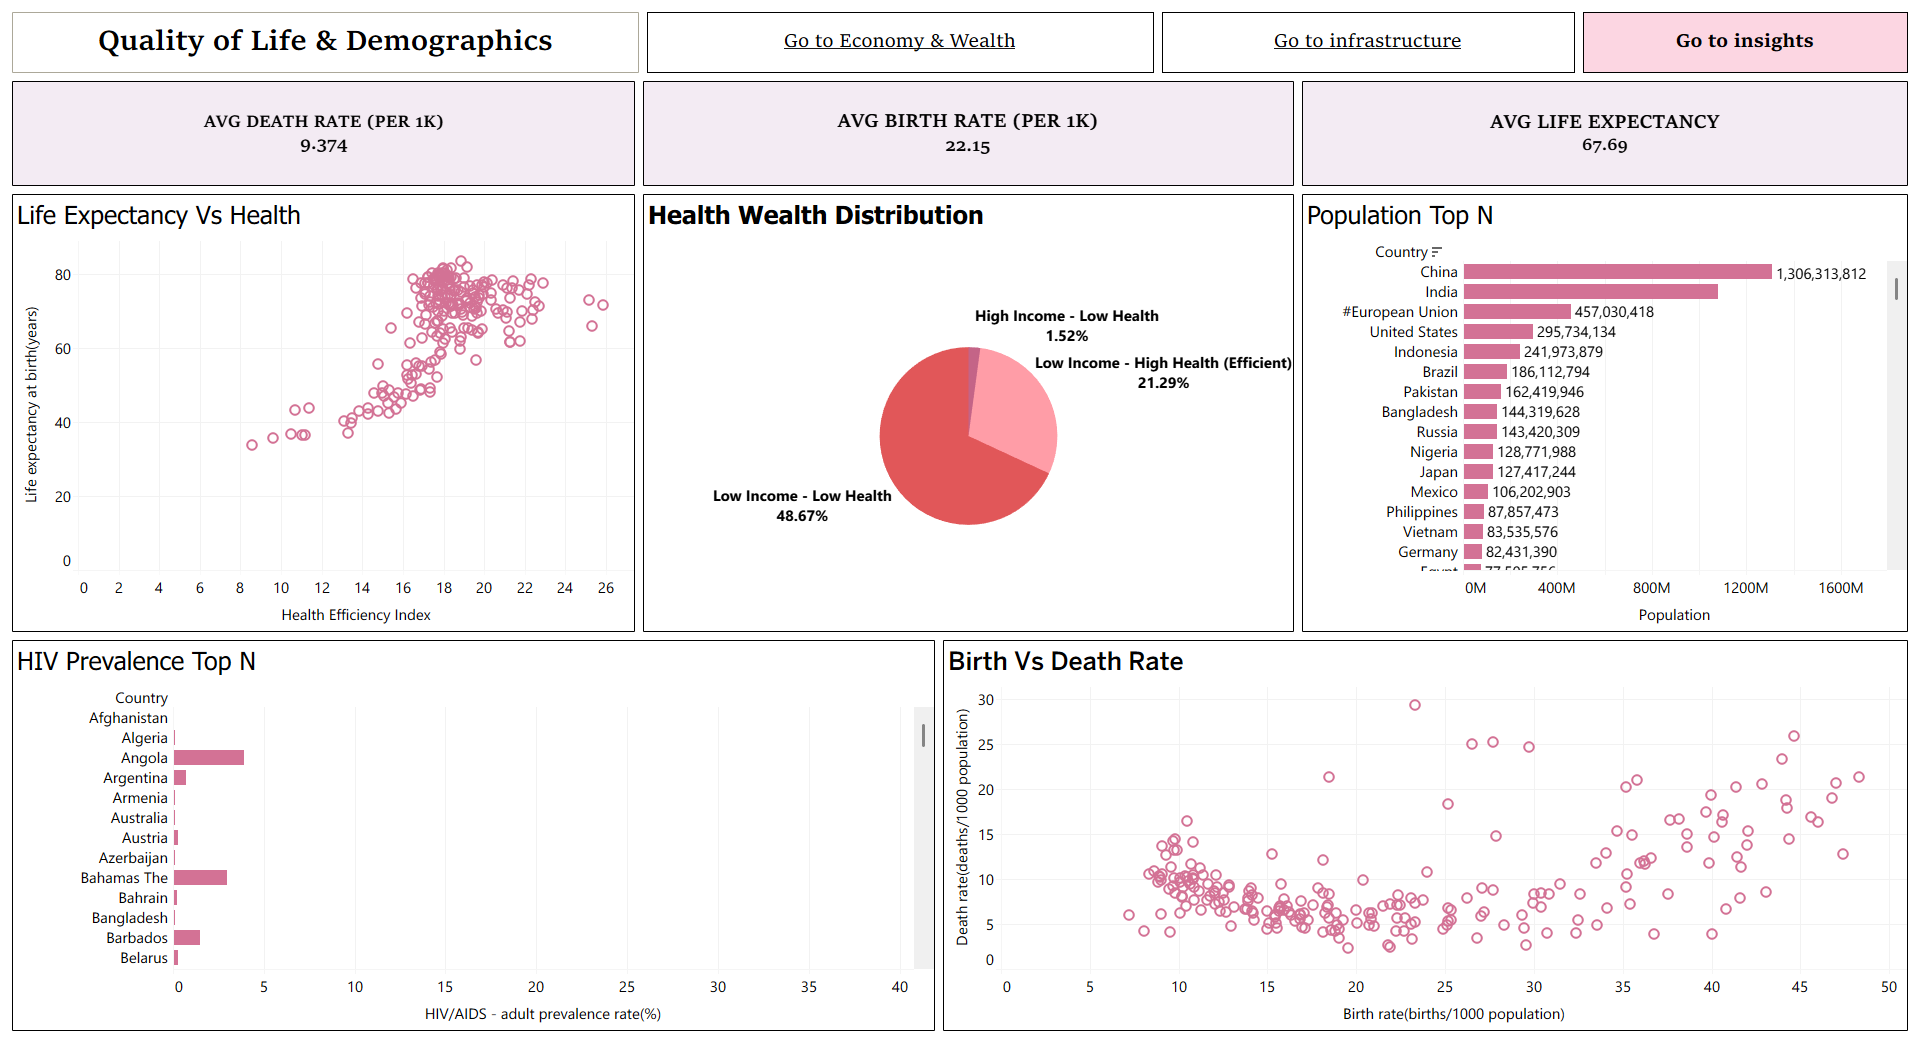

Layout of this report page (visuals, bound fields, positions):
{"tool":"tableau","page":{"name":"Quality of Life","canvas":[1000,1000],"units":"permille","ordinal":1},"visuals":[{"type":"title","box":[4.8,9.4,330.1,65.8]},{"type":"dashboard-object","box":[334.9,9.4,267.9,65.8]},{"type":"dashboard-object","box":[602.9,9.4,227.2,65.8]},{"type":"dashboard-object","box":[830.1,9.4,165.1,65.8]},{"type":"worksheet","title":"Sheet 10","mark":"Automatic","box":[4.8,75.2,328.3,108.1]},{"type":"worksheet","title":"Sheet 9","mark":"Automatic","box":[333.1,75.2,342.8,108.1]},{"type":"worksheet","title":"Sheet 8","mark":"Automatic","box":[675.9,75.2,319.2,108.1]},{"type":"worksheet","title":"Sheet 11","mark":"Automatic","rows":["Life expectancy at birth(years)"],"cols":["Calculation_1624306406854662"],"box":[4.8,183.3,328.2,425.7]},{"type":"worksheet","title":"Sheet 15","mark":"Pie","box":[333.1,183.3,342.9,425.7]},{"type":"worksheet","title":"Sheet 12","mark":"Automatic","rows":["Country String"],"cols":["Population"],"box":[675.9,183.3,319.2,425.7]},{"type":"worksheet","title":"Sheet 14","mark":"Automatic","rows":["Country String"],"cols":["HIV/AIDS - adult prevalence rate(%)"],"box":[4.8,609,484.2,381.6]},{"type":"worksheet","title":"Sheet 13","mark":"Automatic","rows":["Death rate(deaths/1000 population)"],"cols":["Birth rate(births/1000 population)"],"box":[489,609,506.1,381.6]}]}

Visuals, with their boxes on the dashboard's canvas, which has no fixed pixel size, in thousandths of its width and height (x1, y1, x2, y2). These are canvas units, not pixel positions in the 1919x1041 screenshot, which may show the page scaled, cropped or inside an application window:
title: pyautogui.locateOnScreen(5, 9, 335, 75)
dashboard-object: pyautogui.locateOnScreen(335, 9, 603, 75)
dashboard-object: pyautogui.locateOnScreen(603, 9, 830, 75)
dashboard-object: pyautogui.locateOnScreen(830, 9, 995, 75)
"Sheet 10" worksheet: pyautogui.locateOnScreen(5, 75, 333, 183)
"Sheet 9" worksheet: pyautogui.locateOnScreen(333, 75, 676, 183)
"Sheet 8" worksheet: pyautogui.locateOnScreen(676, 75, 995, 183)
"Sheet 11" worksheet: pyautogui.locateOnScreen(5, 183, 333, 609)
"Sheet 15" worksheet (Pie marks): pyautogui.locateOnScreen(333, 183, 676, 609)
"Sheet 12" worksheet: pyautogui.locateOnScreen(676, 183, 995, 609)
"Sheet 14" worksheet: pyautogui.locateOnScreen(5, 609, 489, 991)
"Sheet 13" worksheet: pyautogui.locateOnScreen(489, 609, 995, 991)
